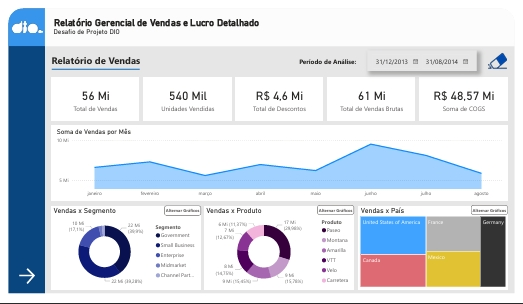

The dashboard page shown, as its layout file describes it:
{"tool":"powerbi","page":{"name":"Vendas","canvas":[1280,720],"ordinal":0},"visuals":[{"type":"shape","box":[0,0,1280.2,720],"z":0},{"type":"shape","box":[109.7,138.9,222.4,28.4],"z":0,"group":"g2"},{"type":"shape","box":[109,174.6,222,110],"z":0,"group":"g1"},{"type":"shape","box":[0,0,92.2,720],"z":1000},{"type":"textbox","box":[103.7,107.6,300,46.3],"z":1000,"group":"g2"},{"type":"shape","box":[341.8,174.6,222.4,110.4],"z":1000,"group":"g1"},{"type":"shape","box":[0,0,92.2,95],"z":2000},{"type":"shape","box":[574.7,174.6,222.4,110.4],"z":2000,"group":"g1"},{"type":"image","title":"Logo DIO","box":[9.3,10.7,76,76.7],"z":3000},{"type":"shape","box":[807.5,174.6,222.4,110.4],"z":3000,"group":"g1"},{"type":"shape","box":[1040.3,174.6,222.4,110.4],"z":4000,"group":"g1"},{"type":"actionButton","title":"Avançar","box":[0,650.9,92.2,50.4],"z":4000},{"type":"shape","box":[92.1,0,1187.9,95.6],"z":5000},{"type":"textbox","title":"Título","box":[109,0,594,73.1],"z":6000},{"type":"group","id":"g1","title":"Cartões","box":[109,174.6,1153.7,110.4],"z":7000},{"type":"group","id":"g2","title":"Tema do Relatório","box":[103.7,107.6,300,59.7],"z":8000},{"type":"shape","box":[109,295.5,1153.7,192.5],"z":9000},{"type":"shape","box":[109,498.5,378,210.4],"z":10000},{"type":"shape","box":[885.1,498.5,377.6,210.4],"z":11000},{"type":"shape","box":[497,498.5,377.6,210.4],"z":12000},{"type":"image","title":"Limpar Filtros","box":[1212.5,109.4,50.4,46.1],"z":13000},{"type":"areaChart","fields":{"Y":["Sum(financials.Vendas)"],"Category":["financials.Data.Variation.Hierarquia de datas.Mês"]},"box":[116.6,299.5,1140.5,184.3],"z":14000},{"type":"card","fields":{"Values":["Sum(financials.Vendas)"]},"box":[109.4,174.2,221.8,109.4],"z":15000},{"type":"card","fields":{"Values":["Sum(financials.Unidades Vendidas)"]},"box":[342.7,174.2,221.8,109.4],"z":16000},{"type":"card","fields":{"Values":["Sum(financials.Descontos)"]},"box":[574.6,174.2,221.8,109.4],"z":17000},{"type":"card","fields":{"Values":["Sum(financials.Vendas Brutas)"]},"box":[807.8,174.2,221.8,109.4],"z":18000},{"type":"card","fields":{"Values":["Sum(financials.COGS)"]},"box":[1041.1,174.2,221.8,109.4],"z":19000},{"type":"clusteredBarChart","title":"Vendas x Segmento","fields":{"Y":["Sum(financials.Vendas)"],"Category":["financials.Segmento"]},"box":[109,499,379,210],"z":20000},{"type":"clusteredBarChart","title":"Vendas x Produto","fields":{"Y":["Sum(financials.Vendas)"],"Category":["financials.Produto"]},"box":[495,499,379,210],"z":21000},{"type":"map","title":"Vendas x País","fields":{"Size":["Sum(financials.Vendas)"],"Category":["financials.País"]},"box":[886,499,377,210],"z":22000},{"type":"slicer","fields":{"Values":["financials.Data"]},"box":[907.2,105.1,277.9,53.3],"z":23000},{"type":"textbox","box":[708.5,103.7,198.7,53.3],"z":24000},{"type":"actionButton","title":"Botão Segmentos (Rosca)","box":[394.2,498.3,92.5,24.2],"z":31000},{"type":"actionButton","title":"Botão Produto (Rosca)","box":[781.7,497.5,92.5,24.2],"z":32000},{"type":"actionButton","title":"Botão País (Árvore)","box":[1170,497.5,92.5,24.2],"z":33000}]}

Visuals, with their boxes on the page's 1280x720 design canvas (x1, y1, x2, y2). These are canvas units, not pixel positions in the 523x304 screenshot, which may show the page scaled, cropped or inside an application window:
shape: x1=0, y1=0, x2=1280, y2=720
shape: x1=110, y1=139, x2=332, y2=167
shape: x1=109, y1=175, x2=331, y2=285
shape: x1=0, y1=0, x2=92, y2=720
textbox: x1=104, y1=108, x2=404, y2=154
shape: x1=342, y1=175, x2=564, y2=285
shape: x1=0, y1=0, x2=92, y2=95
shape: x1=575, y1=175, x2=797, y2=285
"Logo DIO" image: x1=9, y1=11, x2=85, y2=87
shape: x1=808, y1=175, x2=1030, y2=285
shape: x1=1040, y1=175, x2=1263, y2=285
"Avançar" actionButton: x1=0, y1=651, x2=92, y2=701
shape: x1=92, y1=0, x2=1280, y2=96
"Título" textbox: x1=109, y1=0, x2=703, y2=73
"Cartões" group: x1=109, y1=175, x2=1263, y2=285
"Tema do Relatório" group: x1=104, y1=108, x2=404, y2=167
shape: x1=109, y1=296, x2=1263, y2=488
shape: x1=109, y1=498, x2=487, y2=709
shape: x1=885, y1=498, x2=1263, y2=709
shape: x1=497, y1=498, x2=875, y2=709
"Limpar Filtros" image: x1=1212, y1=109, x2=1263, y2=156
areaChart - Sum(financials.Vendas) x financials.Data.Variation.Hierarquia de datas.Mês: x1=117, y1=300, x2=1257, y2=484
card - Sum(financials.Vendas): x1=109, y1=174, x2=331, y2=284
card - Sum(financials.Unidades Vendidas): x1=343, y1=174, x2=564, y2=284
card - Sum(financials.Descontos): x1=575, y1=174, x2=796, y2=284
card - Sum(financials.Vendas Brutas): x1=808, y1=174, x2=1030, y2=284
card - Sum(financials.COGS): x1=1041, y1=174, x2=1263, y2=284
"Vendas x Segmento" clusteredBarChart: x1=109, y1=499, x2=488, y2=709
"Vendas x Produto" clusteredBarChart: x1=495, y1=499, x2=874, y2=709
"Vendas x País" map: x1=886, y1=499, x2=1263, y2=709
slicer - financials.Data: x1=907, y1=105, x2=1185, y2=158
textbox: x1=708, y1=104, x2=907, y2=157
"Botão Segmentos (Rosca)" actionButton: x1=394, y1=498, x2=487, y2=522
"Botão Produto (Rosca)" actionButton: x1=782, y1=498, x2=874, y2=522
"Botão País (Árvore)" actionButton: x1=1170, y1=498, x2=1262, y2=522
